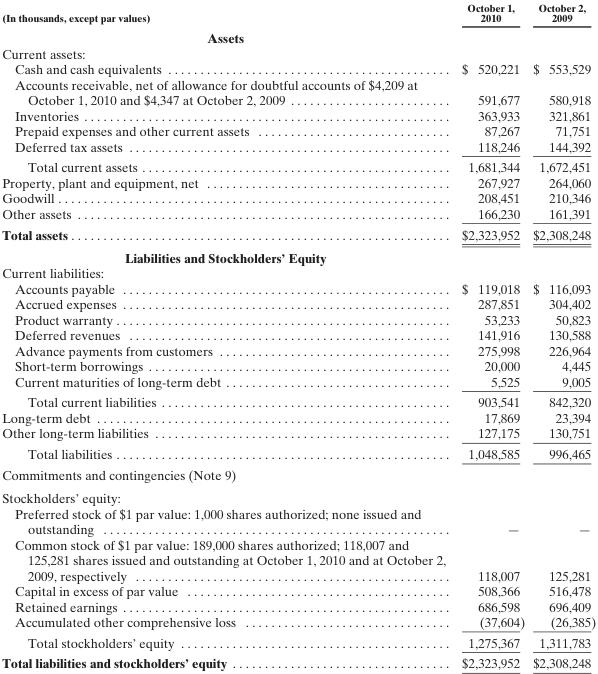table: (1, 1, 595, 670)
table column: (1, 1, 453, 670), (453, 1, 528, 670), (528, 1, 595, 670)
table column header: (1, 1, 595, 26)
table projected row header: (1, 463, 595, 485), (1, 245, 595, 265), (1, 485, 595, 505), (1, 26, 595, 45), (1, 45, 595, 60), (1, 265, 595, 280)
table row: (1, 536, 595, 582), (1, 76, 595, 107), (1, 505, 595, 536), (1, 1, 595, 26), (1, 223, 595, 245), (1, 463, 595, 485), (1, 631, 595, 652), (1, 245, 595, 265), (1, 443, 595, 463), (1, 485, 595, 505), (1, 26, 595, 45), (1, 138, 595, 156), (1, 156, 595, 174), (1, 205, 595, 223), (1, 373, 595, 391), (1, 391, 595, 409), (1, 425, 595, 443), (1, 613, 595, 631), (1, 652, 595, 670), (1, 60, 595, 76), (1, 122, 595, 138), (1, 174, 595, 190), (1, 280, 595, 296), (1, 311, 595, 327), (1, 342, 595, 358), (1, 409, 595, 425), (1, 582, 595, 598), (1, 45, 595, 60), (1, 107, 595, 122), (1, 190, 595, 205), (1, 265, 595, 280), (1, 296, 595, 311), (1, 327, 595, 342), (1, 358, 595, 373), (1, 598, 595, 613)
